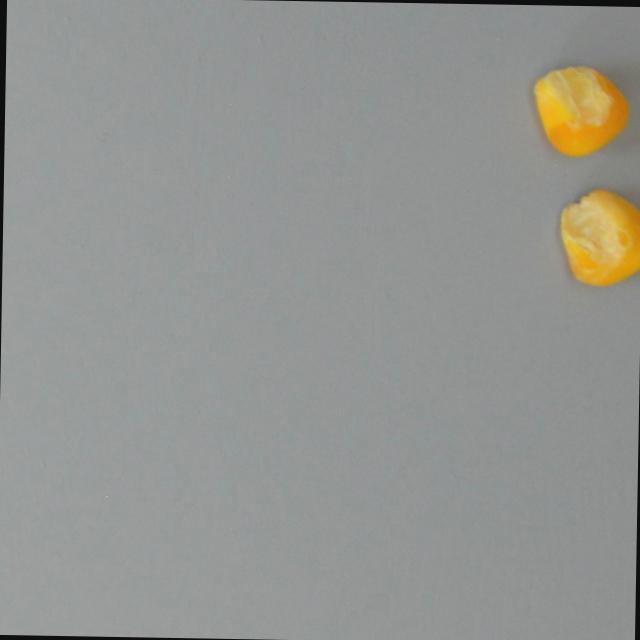no_desgerminado: (529, 59, 632, 162), (557, 184, 640, 292)
